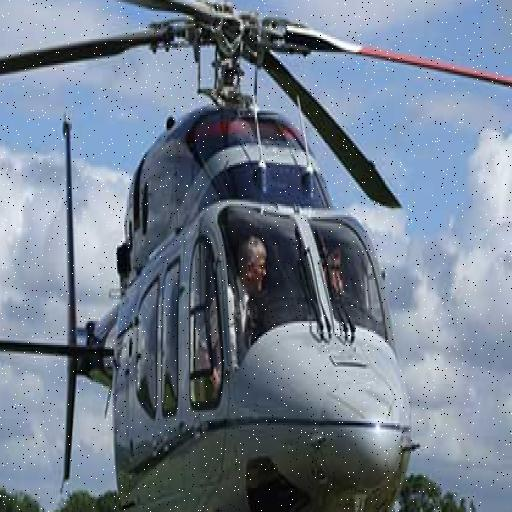helicopter: (6, 1, 459, 506)
